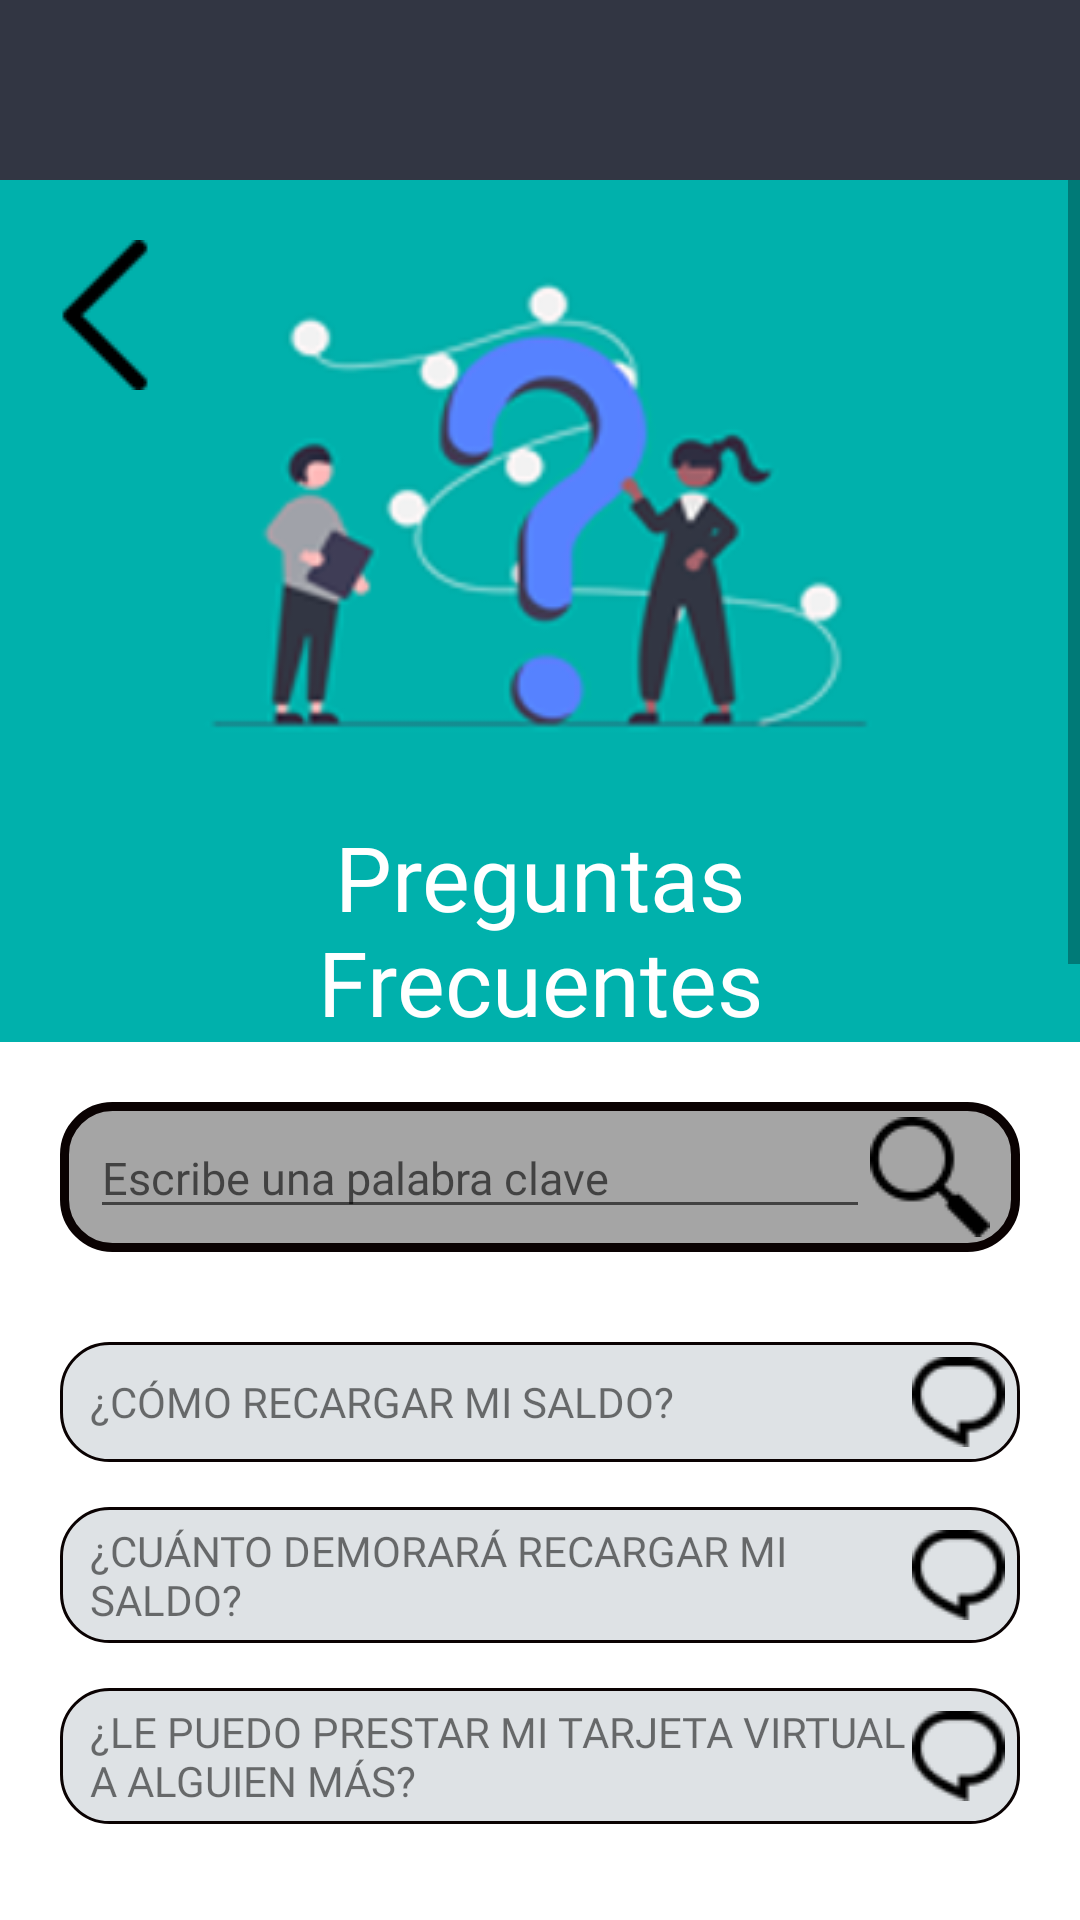

Icon click points for this 1080 × 1920 phone screenshot, format point (x, y):
arrow: point (105, 315)
cuadro pregunta: point (958, 1402), point (958, 1575), point (958, 1756)
lupa: point (930, 1177)
